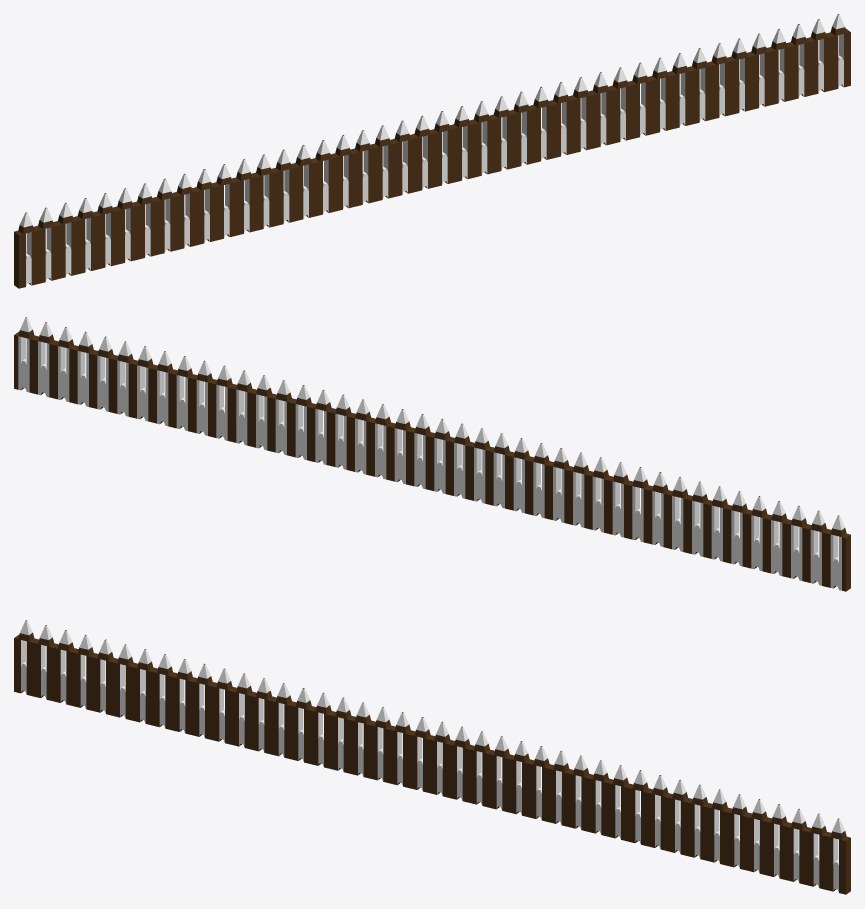
The model's file is Fence Long.fbx.
The picture shows the model from 3 angles, top to bottom: view 1: azimuth 30°, elevation 25°; view 2: azimuth 150°, elevation 25°; view 3: azimuth 330°, elevation 25°; orthographic projection.
Visible parts, largest first — view 1: Cube.001; view 2: Cube.001; view 3: Cube.001.
Part boxes in pixels (x1,y1,x2,y2): Cube.001: [14, 14, 850, 288]; Cube.001: [14, 317, 850, 591]; Cube.001: [14, 620, 850, 894].
Size of the model in its own units: 2700 by 222 by 27.58.
